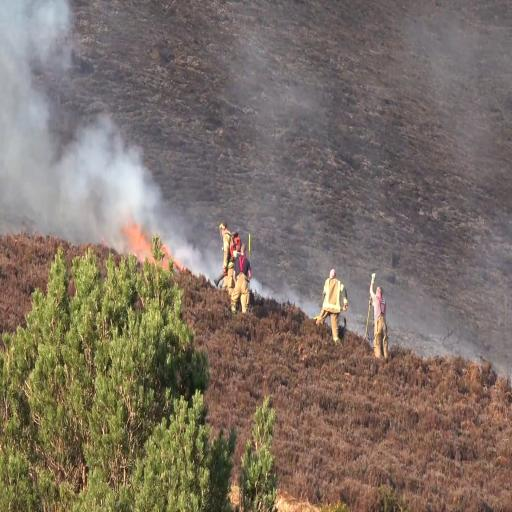fire: (129, 216, 171, 268)
smoke: (73, 123, 146, 247)
